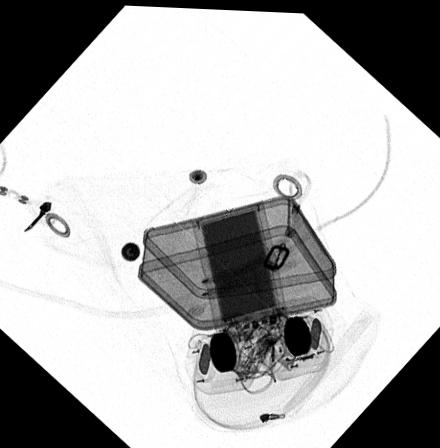Powerbank: (192, 197, 290, 344)
